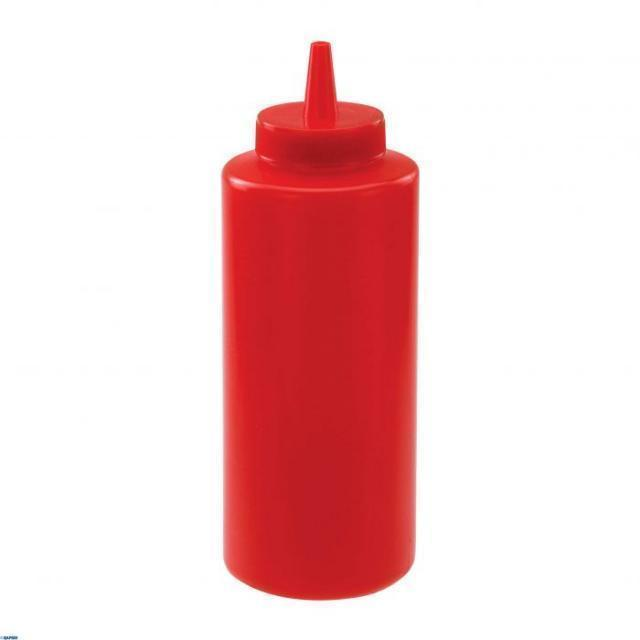Plastic: (218, 32, 426, 607)
